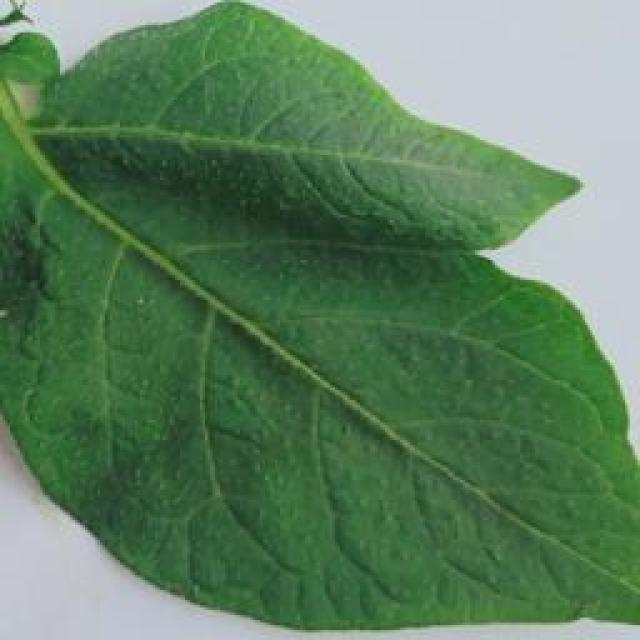Potato_Healthy: (4, 22, 628, 639)
